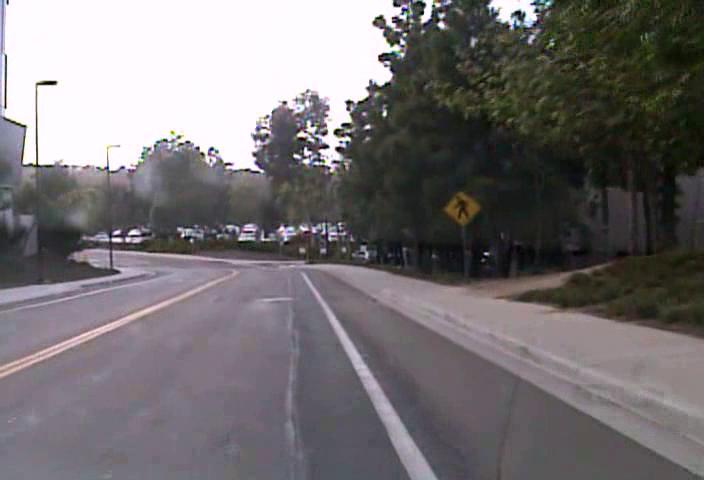pedestrianCrossing: (441, 189, 483, 226)
